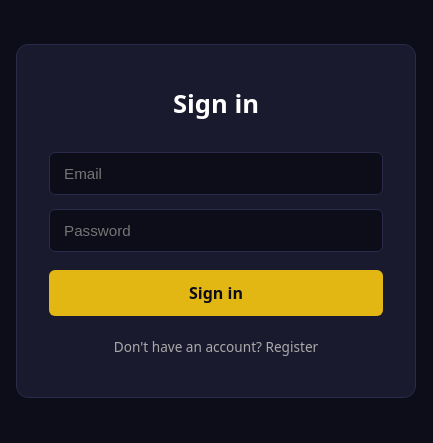
Test: Login page › switches back to sign-in when the toggle is clicked a second time
Click the button "Don't have an account? Register": click(216, 346) [49, 336, 383, 357]
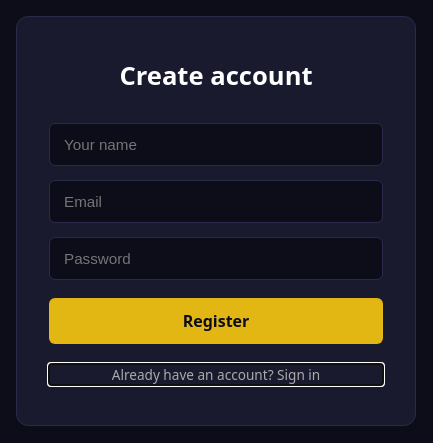
Click the button "Already have an account? Sign in": click(216, 375) [49, 364, 383, 385]
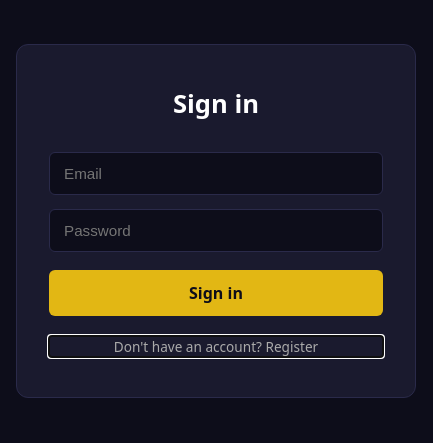
Now the heading "Sign in" is shown, box [173, 86, 259, 121]
